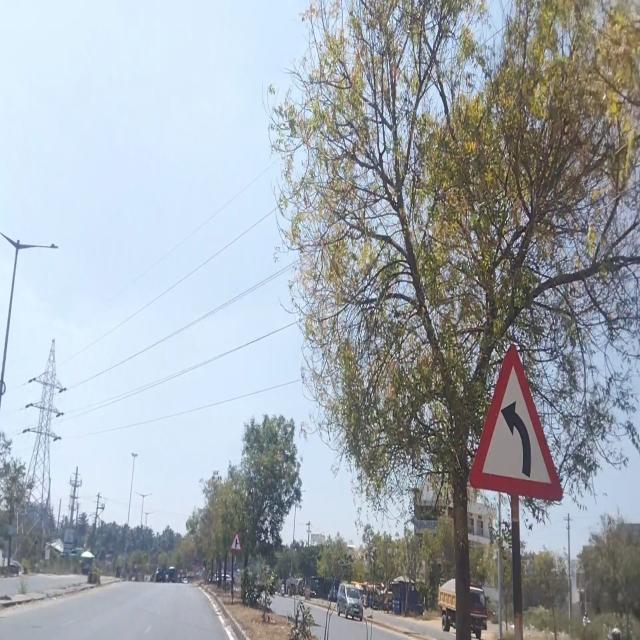bien_cam: (468, 340, 563, 504), (230, 533, 242, 552)
